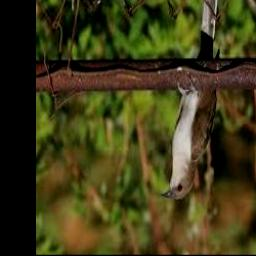Cuckoo: (161, 0, 219, 200)
